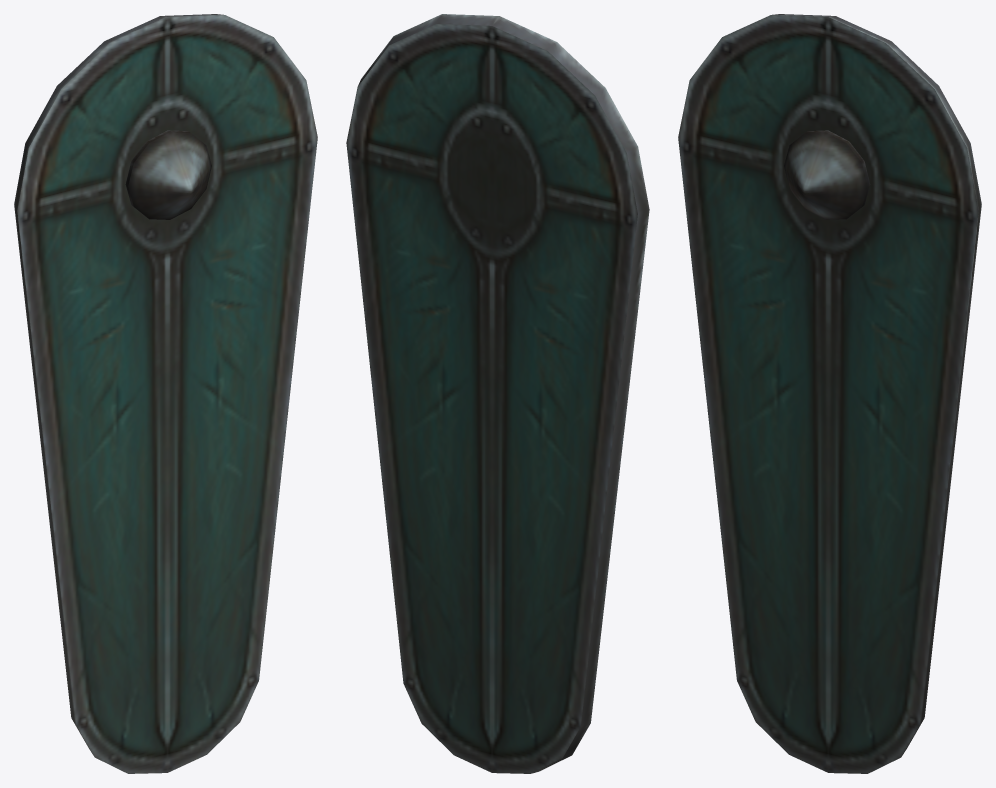
The model's file is Shield05.FBX.
3 views of the same model, side by side, from view 1: azimuth 30°, elevation 25°; view 2: azimuth 150°, elevation 25°; view 3: azimuth 330°, elevation 25° (orthographic).
Visible parts, largest first — view 1: Shield05; view 2: Shield05; view 3: Shield05.
Part boxes in pixels (bbox=[...]): Shield05: bbox=[14, 14, 317, 773]; Shield05: bbox=[346, 14, 649, 773]; Shield05: bbox=[678, 14, 981, 773].
Bounding box in the file's own units: 54 × 130 × 9.8.
